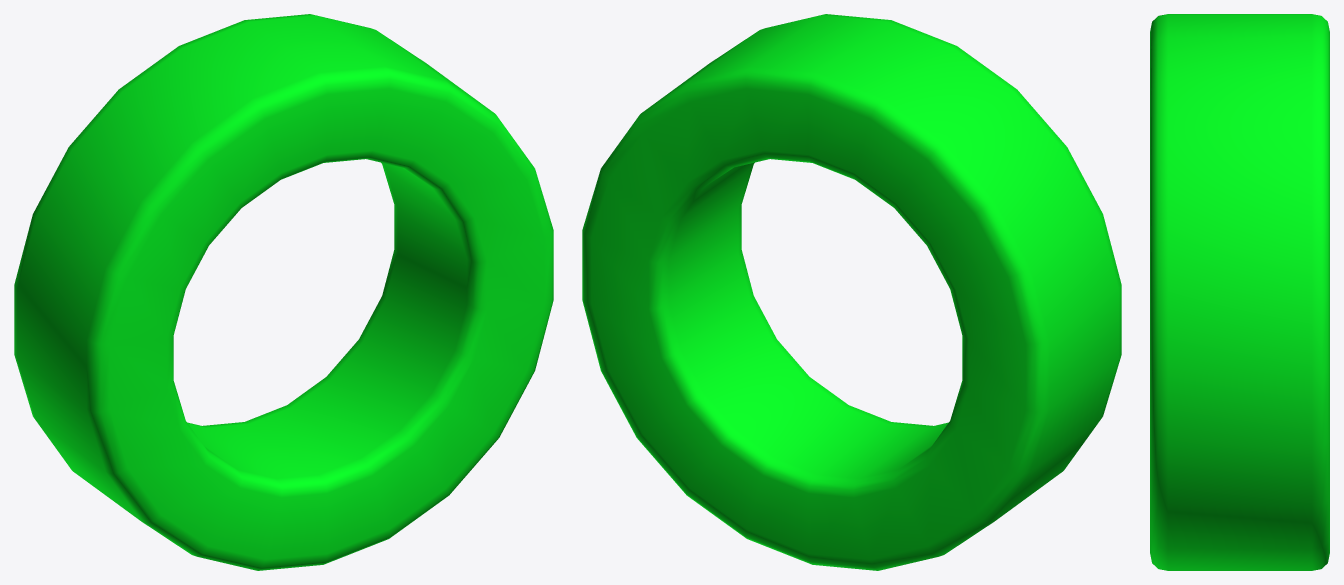
Rendered from Prop_CarTire LowPoly.FBX.
3 views of the same model, side by side, from view 1: azimuth 30°, elevation 25°; view 2: azimuth 150°, elevation 25°; view 3: azimuth 270°, elevation 25° (orthographic). The views are drawn at different scales.
Visible parts, largest first — view 1: Car Tire Low Poly; view 2: Car Tire Low Poly; view 3: Car Tire Low Poly.
Part boxes in pixels (<box>): Car Tire Low Poly: <box>14,14,553,570</box>; Car Tire Low Poly: <box>582,14,1121,570</box>; Car Tire Low Poly: <box>1150,14,1329,570</box>.
Bounding box in the file's own units: 49.49 × 50 × 16.
